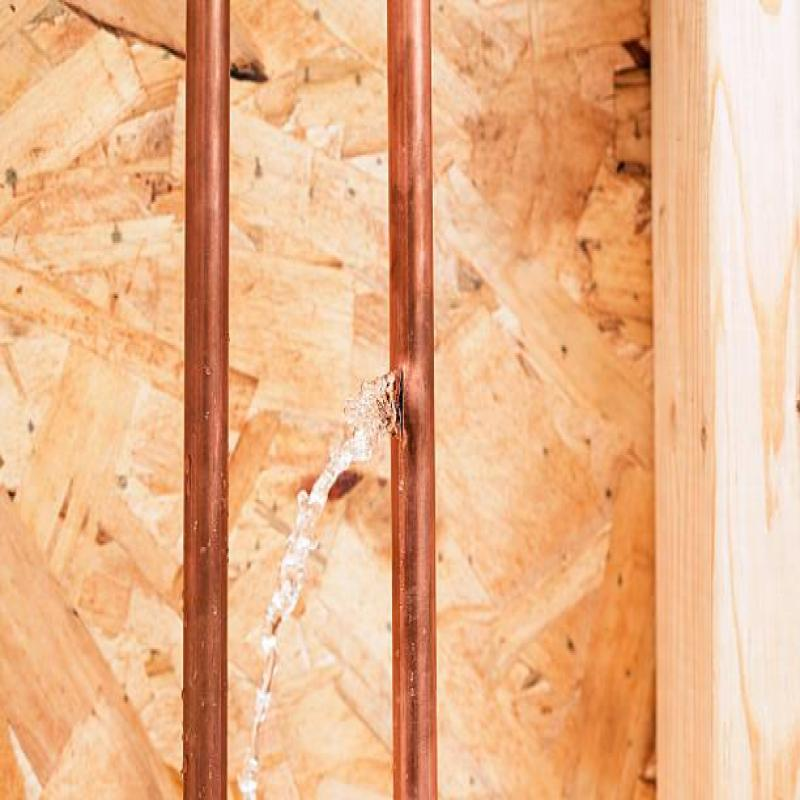Fracture: (386, 366, 412, 458)
